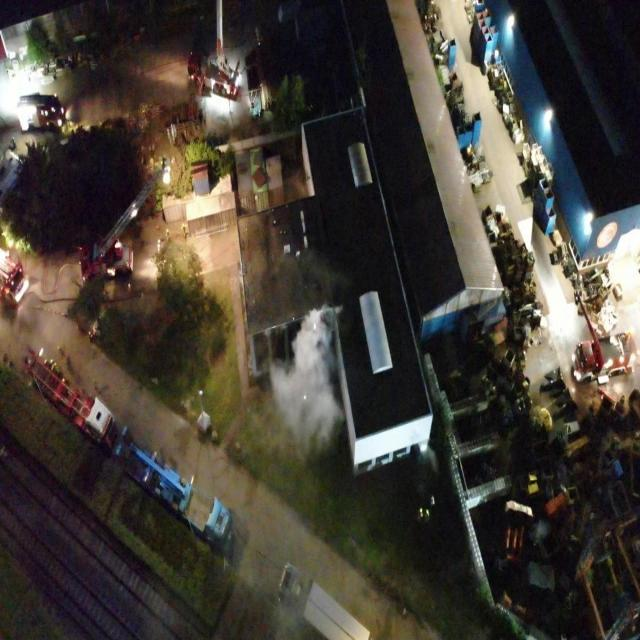Smoke: (266, 305, 345, 456), (283, 168, 307, 201)
